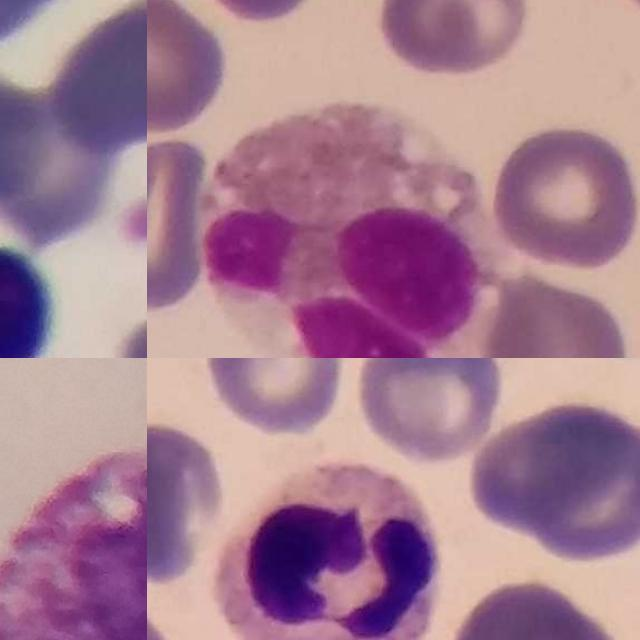Basophil: (0, 430, 147, 640)
Eosinophil: (203, 105, 496, 358)
Lymphocyte: (0, 243, 52, 358)
Neutrophil: (215, 466, 442, 640)
